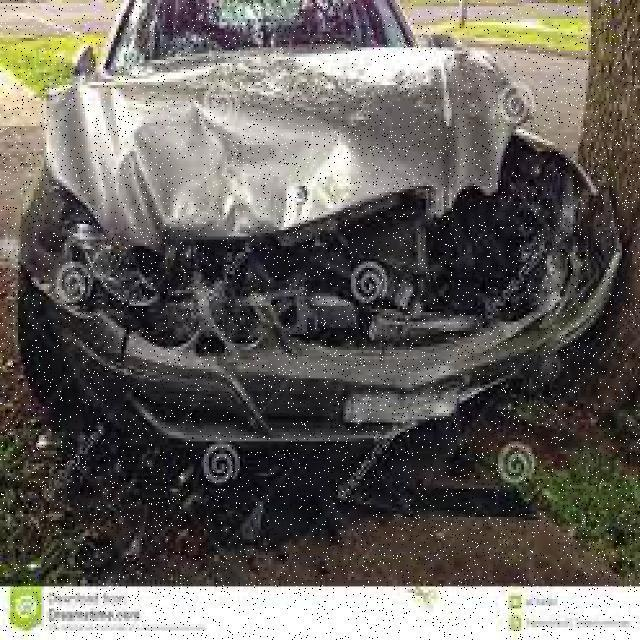bonnet-dent: (38, 44, 530, 265)
front-bumper-dent: (41, 255, 537, 450)
